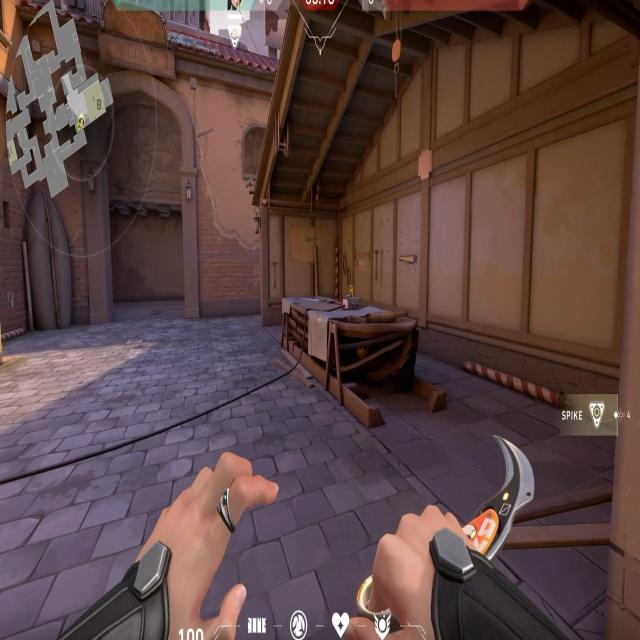B_Garage_Left: (252, 206, 349, 353)
